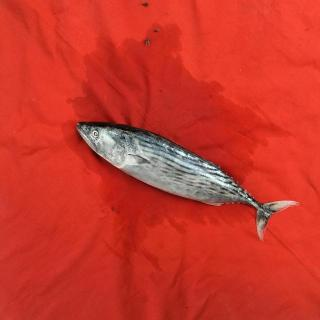Ikan: (70, 116, 308, 246)
